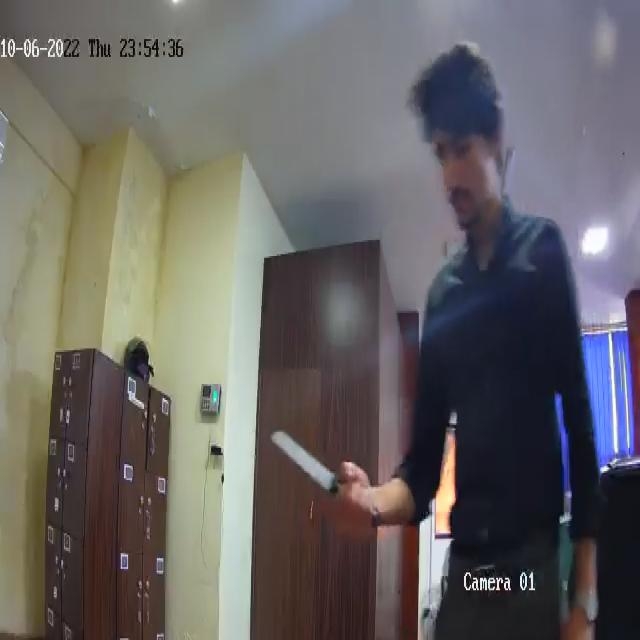Knife: (267, 421, 383, 546)
